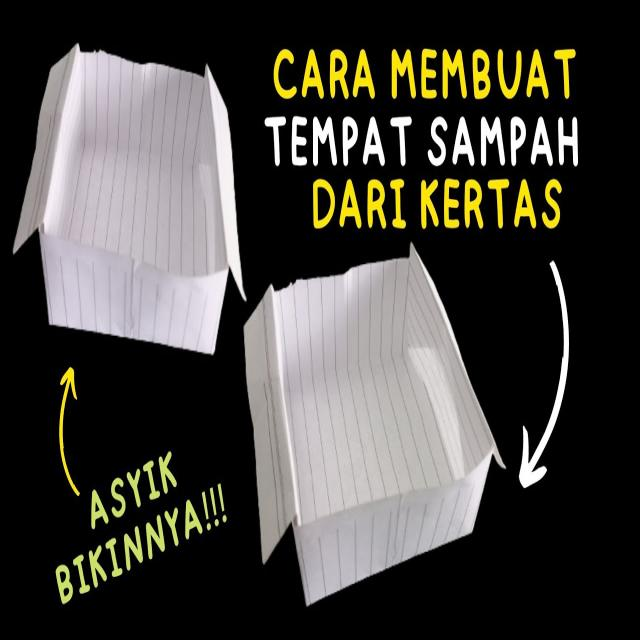Kertas: (233, 250, 533, 590), (26, 36, 252, 376)
